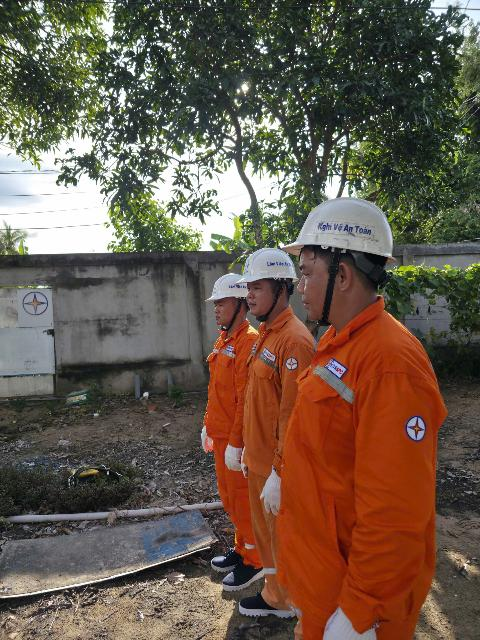gloves: (259, 469, 292, 527), (213, 442, 244, 475), (191, 425, 218, 458)
helmet: (278, 191, 412, 270), (236, 238, 299, 288), (210, 271, 257, 307)
shoes: (231, 586, 301, 624), (211, 559, 268, 591), (198, 546, 245, 580)
